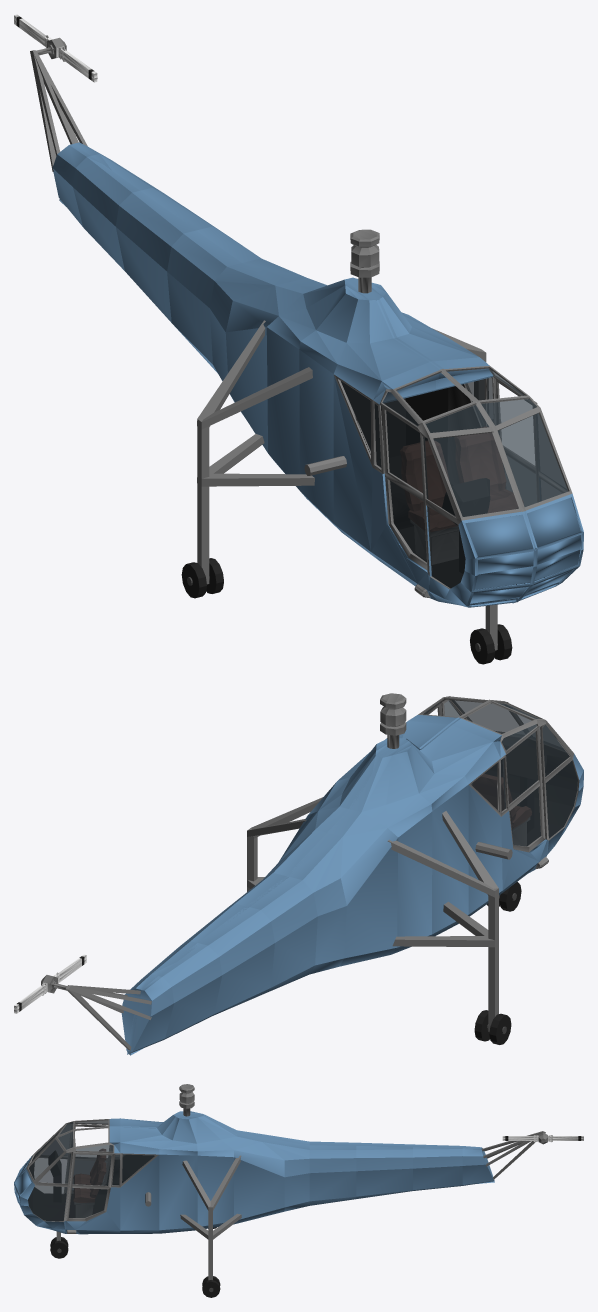
File: aircraft 15.glb
3 renders of one model, top to bottom at view 1: azimuth 30°, elevation 25°; view 2: azimuth 150°, elevation 25°; view 3: azimuth 270°, elevation 25°, orthographic. The views are drawn at different scales.
Parts seen in each view (by area): view 1: fuselage, seats, door right, upper supports right, tail assembly, lower supports right, gear strut right, rotor shaft, door left, instrument panel, WheelAndAxleFront, WheelAndAxle right (+1 smaller); view 2: fuselage, door right, upper supports right, tail assembly, lower supports right, gear strut right, instrument panel, seats, rotor shaft, upper supports left, WheelAndAxle right, tail rotor (+2 smaller); view 3: fuselage, door left, seats, tail assembly, upper supports left, door right, lower supports left, instrument panel, rotor shaft, tail rotor, gear strut left, WheelAndAxleFront (+1 smaller).
Part boxes in pixels (x1,y1,x2,y2): fuselage: [52, 142, 583, 607]; seats: [400, 426, 522, 564]; door right: [381, 406, 431, 570]; upper supports right: [197, 320, 312, 429]; tail assembly: [30, 37, 87, 171]; lower supports right: [197, 434, 314, 486]; gear strut right: [197, 419, 209, 584]; rotor shaft: [350, 229, 379, 293]; door left: [494, 378, 537, 506]; instrument panel: [442, 478, 489, 573]; WheelAndAxleFront: [470, 624, 512, 664]; WheelAndAxle right: [181, 558, 223, 598]; fuselage: [121, 696, 583, 1055]; door right: [503, 726, 545, 852]; upper supports right: [387, 811, 498, 897]; tail assembly: [41, 975, 151, 1050]; lower supports right: [392, 901, 494, 947]; gear strut right: [488, 888, 498, 1031]; instrument panel: [506, 745, 546, 832]; seats: [472, 774, 531, 845]; rotor shaft: [380, 693, 406, 748]; upper supports left: [247, 797, 322, 838]; WheelAndAxle right: [474, 1010, 511, 1044]; tail rotor: [14, 954, 86, 1013]; fuselage: [14, 1111, 494, 1234]; door left: [66, 1152, 114, 1221]; seats: [73, 1149, 105, 1217]; tail assembly: [482, 1131, 547, 1179]; upper supports left: [182, 1155, 241, 1210]; door right: [66, 1124, 111, 1193]; lower supports left: [180, 1213, 241, 1239]; instrument panel: [48, 1150, 61, 1202]; rotor shaft: [179, 1084, 194, 1116]; tail rotor: [502, 1135, 583, 1142]; gear strut left: [208, 1206, 212, 1280]; WheelAndAxleFront: [50, 1237, 68, 1258].
Bounding box in the file's own units: 3.96 × 4.27 × 12.68.
